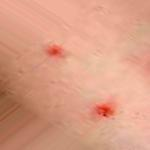Ants: (90, 95, 121, 124), (43, 39, 67, 61)
